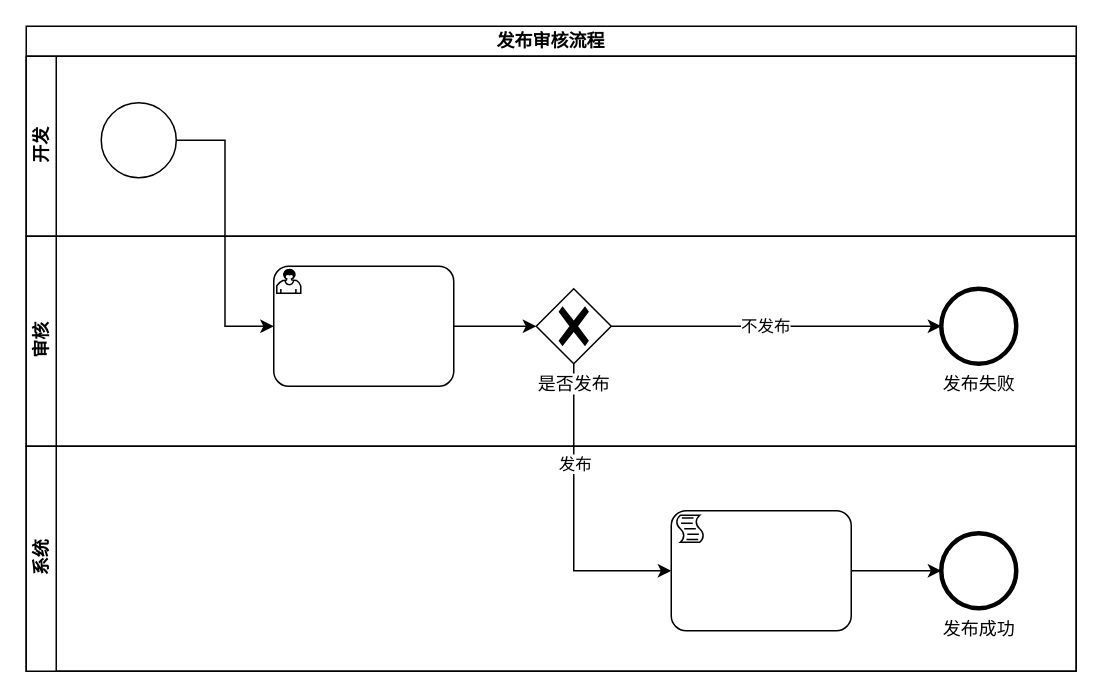
Some shapes in this 1103 by 698 pixel diagram are drawn without their labels. The centre of each missing label's shape, as x and y in pixels:
人工审核: the point at 363,325
执行发布任务: the point at 760,570
提交发布申请: the point at 138,139
